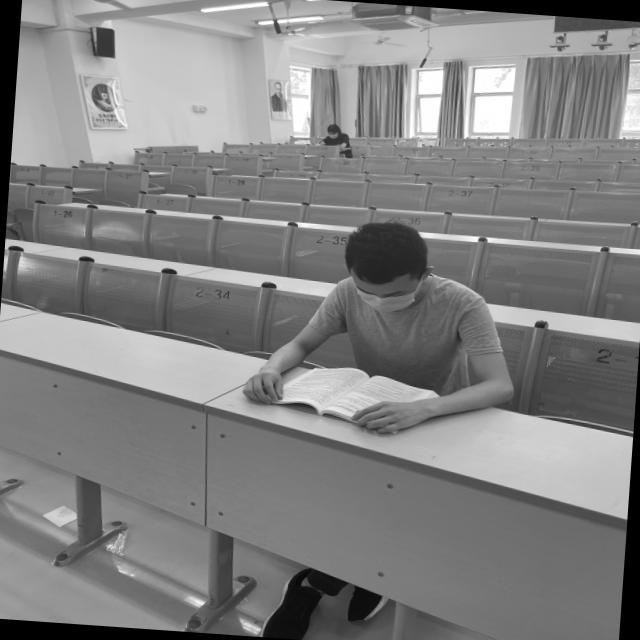study: (241, 214, 528, 439), (317, 121, 344, 146)
